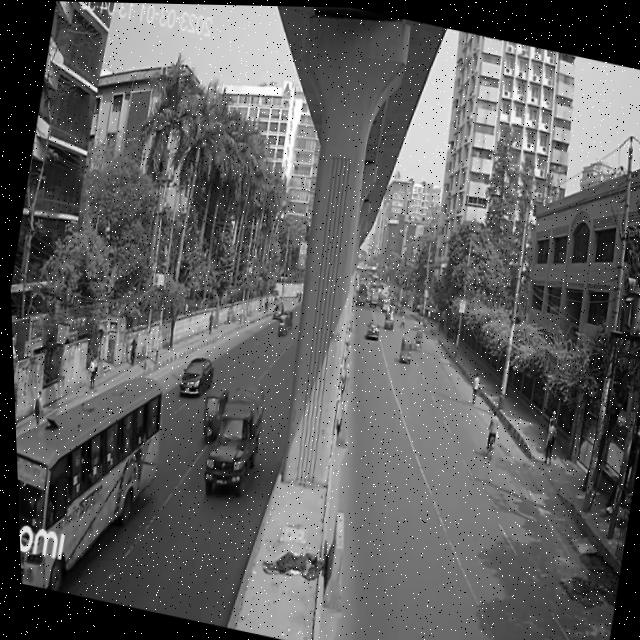cng: (194, 383, 228, 445), (393, 331, 414, 366)
